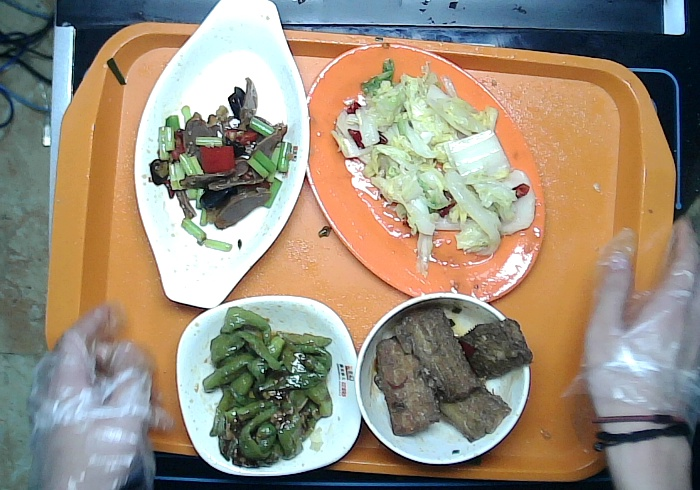NLDX-Bai_Se_Xiao_Fang_Die: (174, 294, 363, 479)
NLDX-Fan_Wan: (353, 291, 533, 468)
NLDX-Ju_Se_Pan: (302, 42, 547, 309)
NLDX-Yu_Pan: (133, 1, 311, 308)
